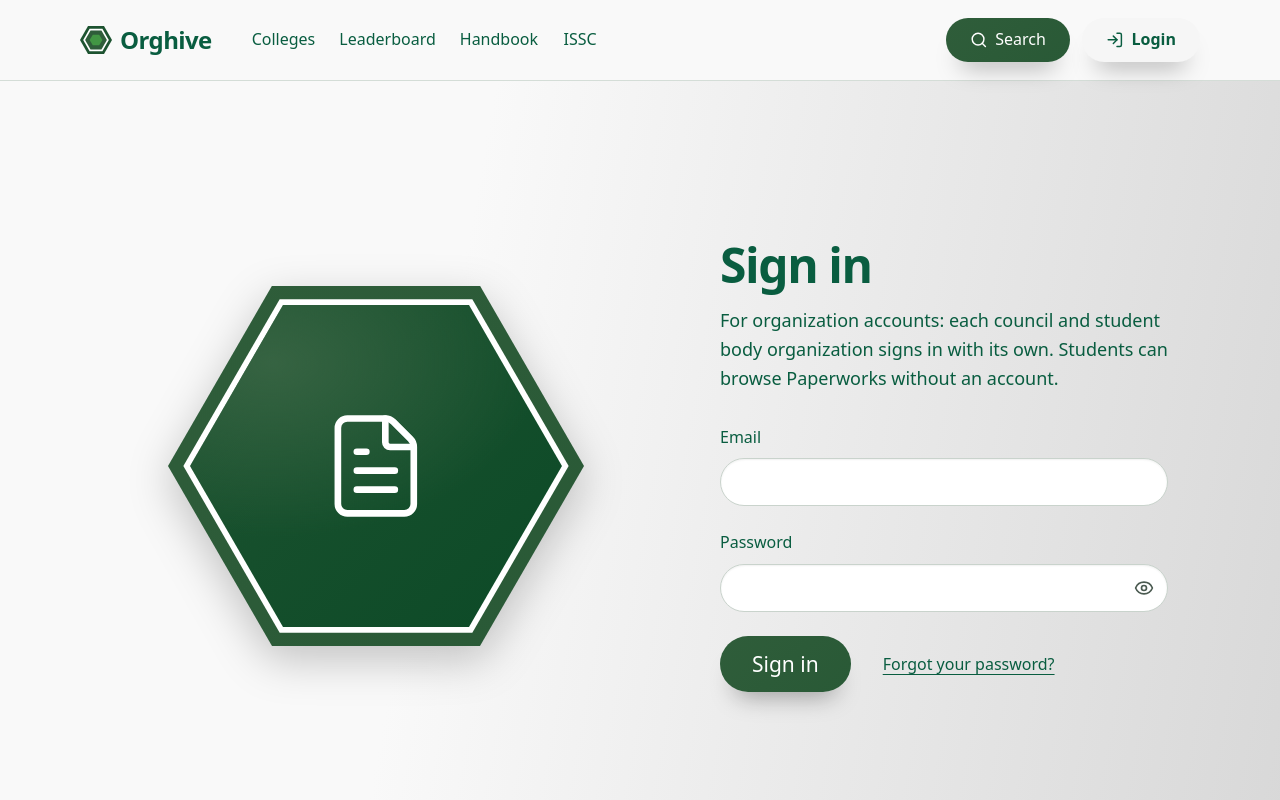
Test: /login › explains a wrong password and clears the password field
In the field labelled "Email": (944, 482) [720, 458, 1168, 506], type "juan@nwssu.test"
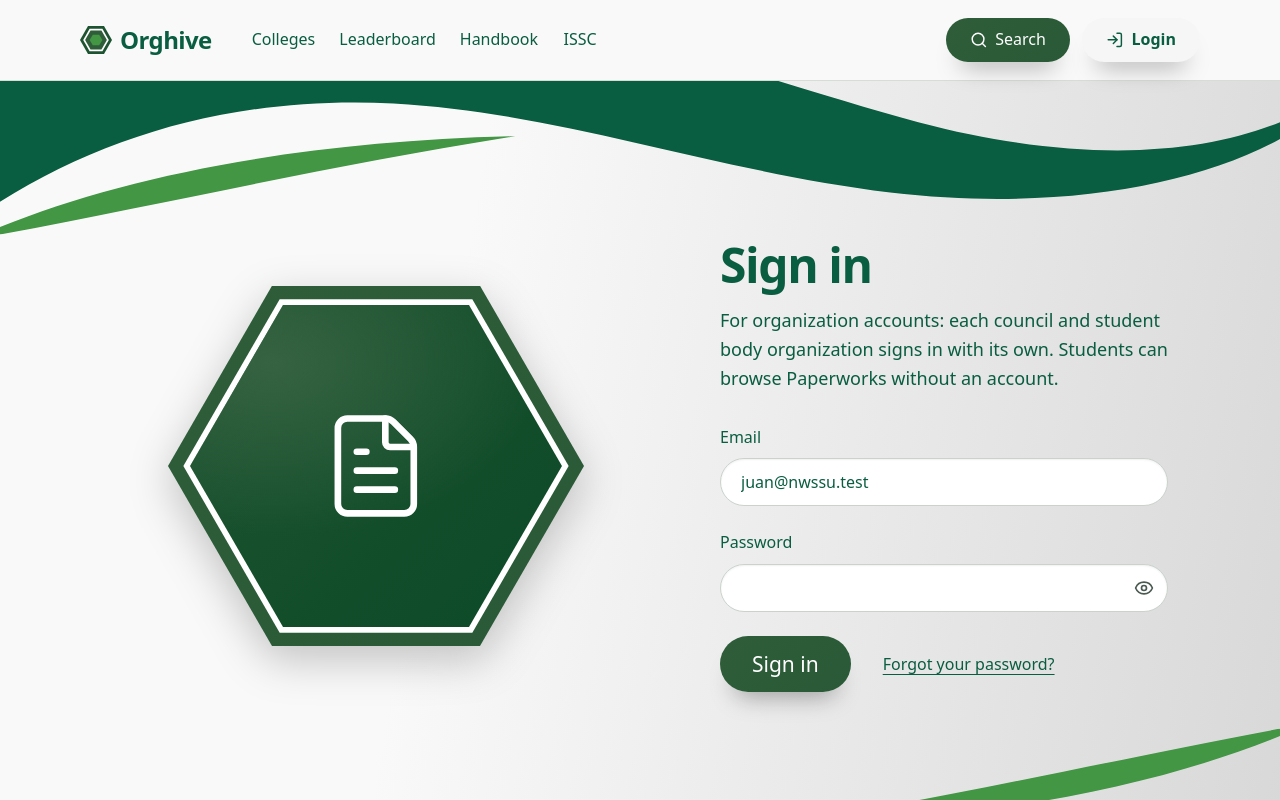
In the password field labelled "Password": (944, 588) [720, 564, 1168, 612], type "wrong password"
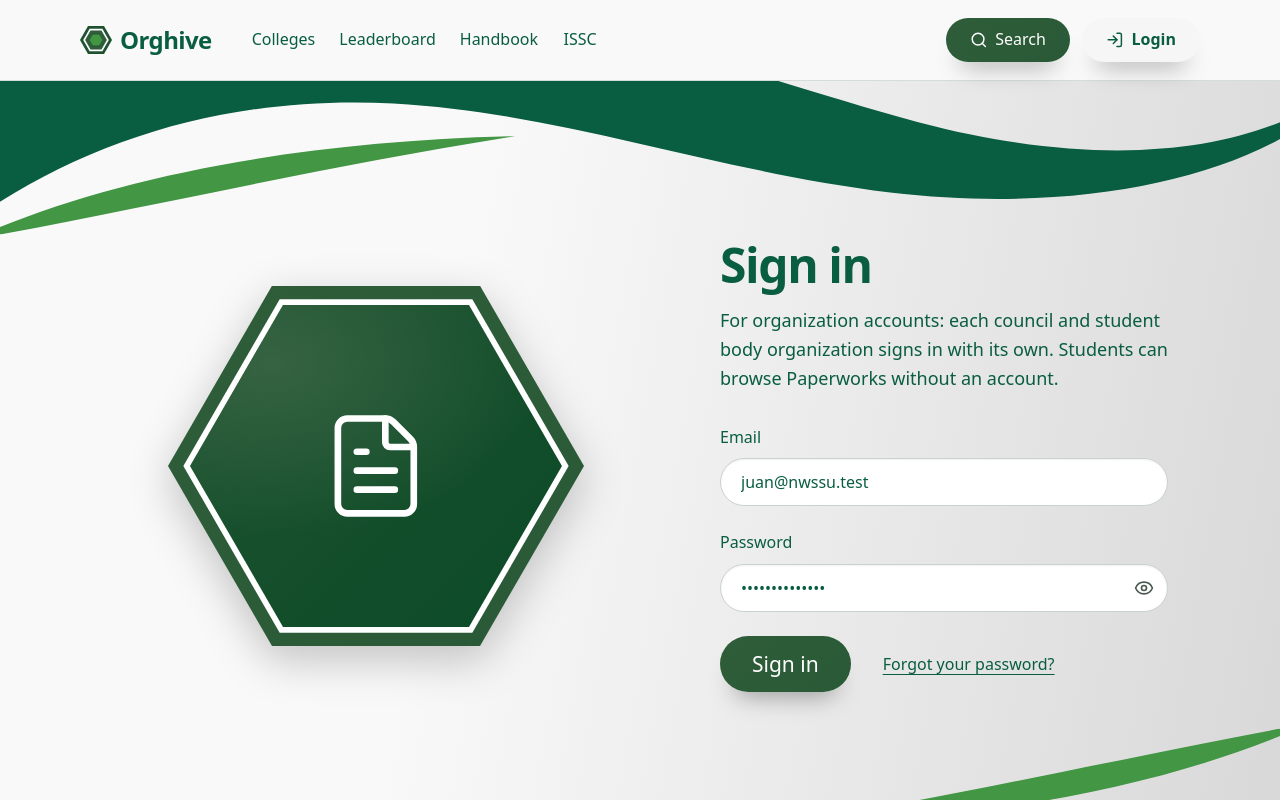
Click the button "Sign in": click(785, 664) [720, 636, 851, 692]
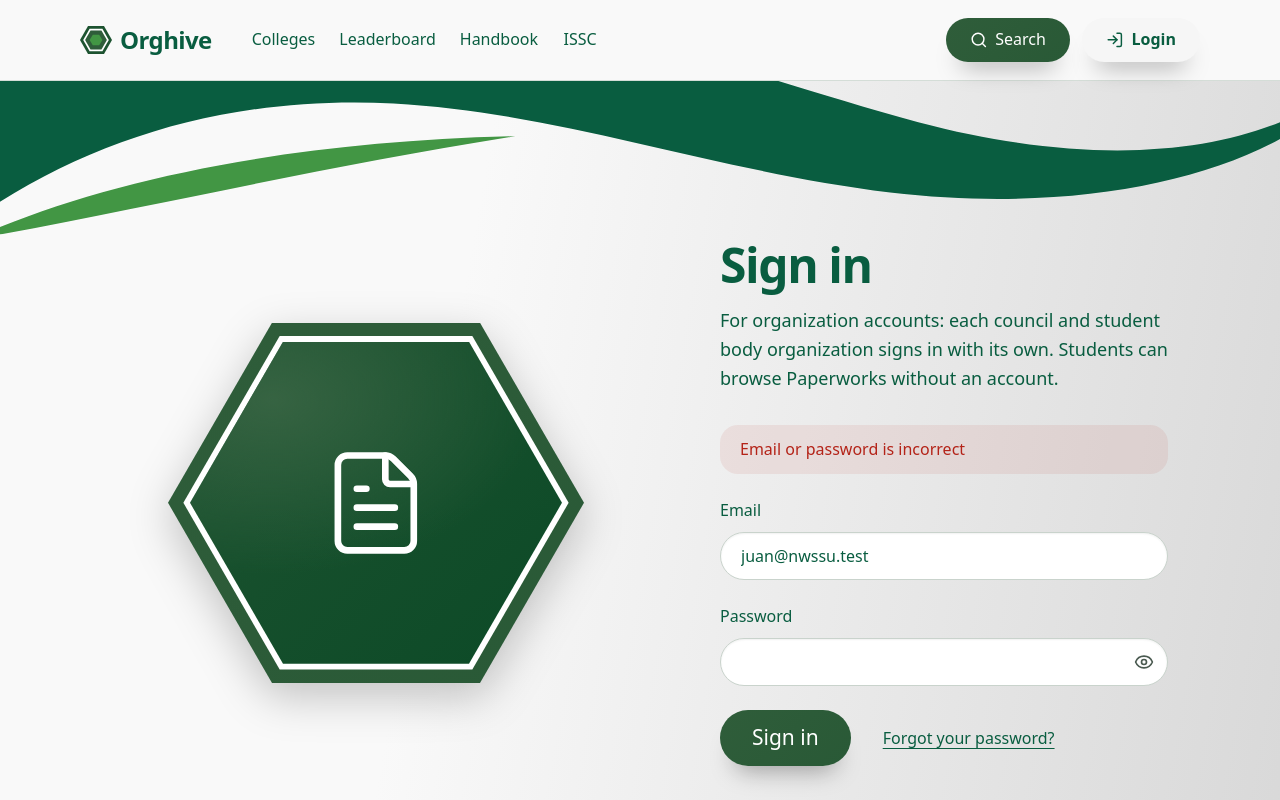
Result: the message reads "Email or password is incorrect" at [740, 438, 965, 460]
Result: the password field labelled "Password" is empty at [720, 638, 1168, 686]
